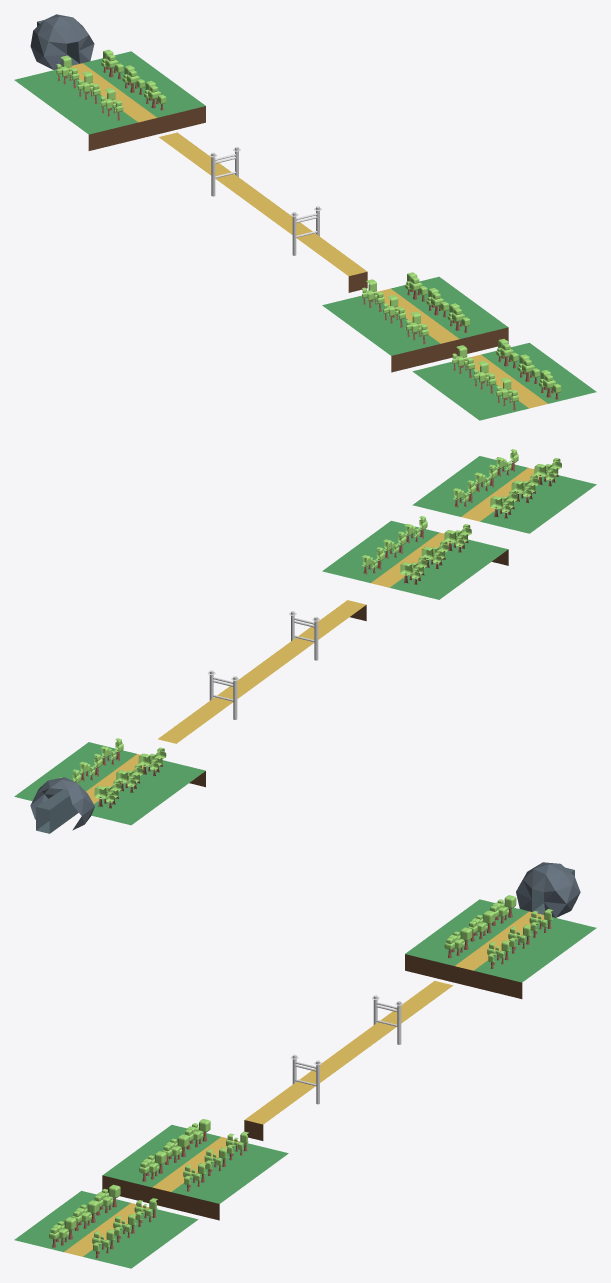
The model's file is obstacle2.0 1.fbx.
3 views of the same model, one above another, from view 1: azimuth 30°, elevation 25°; view 2: azimuth 150°, elevation 25°; view 3: azimuth 330°, elevation 25° (orthographic).
Parts seen in each view (by area): view 1: Вход в пещеру.002, Plane.004, Plane.005, Plane.001, Деревья 1.001, Деревья 2.002, Деревья1.001; view 2: Вход в пещеру.002, Plane.004, Plane.005, Plane.001, Деревья 1.001, Деревья1.001, Деревья 2.002, Cylinder.001, Cylinder.003; view 3: Вход в пещеру.002, Plane.004, Plane.005, Plane.001, Деревья 2.002, Деревья 1.001, Деревья1.001, Cylinder.001.
Part boxes in pixels (x1=…): Вход в пещеру.002: x1=14, y1=14, x2=205, y2=150; Plane.004: x1=322, y1=276, x2=508, y2=372; Plane.005: x1=412, y1=343, x2=596, y2=420; Plane.001: x1=159, y1=132, x2=367, y2=292; Деревья 1.001: x1=451, y1=339, x2=561, y2=410; Деревья 2.002: x1=55, y1=49, x2=166, y2=120; Деревья1.001: x1=361, y1=272, x2=469, y2=344; Вход в пещеру.002: x1=14, y1=742, x2=205, y2=833; Plane.004: x1=322, y1=520, x2=508, y2=599; Plane.005: x1=412, y1=456, x2=596, y2=533; Plane.001: x1=158, y1=600, x2=366, y2=743; Деревья 1.001: x1=453, y1=449, x2=561, y2=518; Деревья1.001: x1=362, y1=516, x2=471, y2=584; Деревья 2.002: x1=59, y1=738, x2=166, y2=808; Cylinder.001: x1=207, y1=670, x2=239, y2=719; Cylinder.003: x1=289, y1=611, x2=320, y2=660; Вход в пещеру.002: x1=405, y1=862, x2=596, y2=998; Plane.004: x1=102, y1=1125, x2=288, y2=1220; Plane.005: x1=14, y1=1191, x2=198, y2=1268; Plane.001: x1=244, y1=980, x2=453, y2=1140; Деревья 2.002: x1=444, y1=895, x2=552, y2=968; Деревья 1.001: x1=49, y1=1184, x2=157, y2=1258; Деревья1.001: x1=139, y1=1119, x2=248, y2=1191; Cylinder.001: x1=372, y1=995, x2=403, y2=1044.
Bounding box in the file's own units: 34218 × 15875 × 250001.
